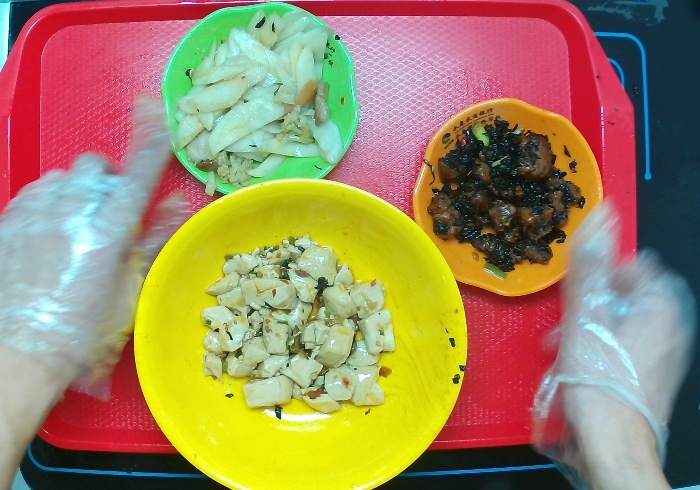YKMZ-Huang_Se_Tang_Wan: (127, 172, 471, 490)
YKMZ-Ju_Se_Ao_Bian_Wan: (408, 93, 608, 299)
YKMZ-Lv_Se_Ao_Bian_Wan: (158, 1, 363, 200)
